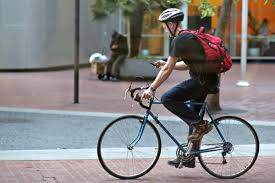helmet: (158, 5, 184, 22)
